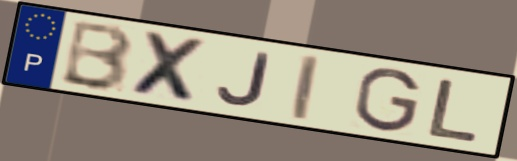B: (57, 18, 137, 93)
G: (352, 66, 423, 133)
I: (290, 52, 322, 123)
J: (215, 49, 274, 108)
L: (424, 77, 483, 145)
X: (127, 28, 212, 107)
